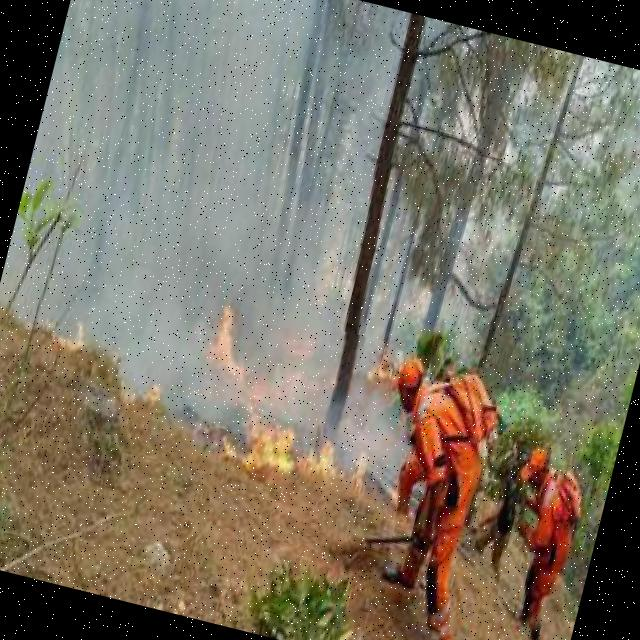fire: (141, 292, 386, 518)
